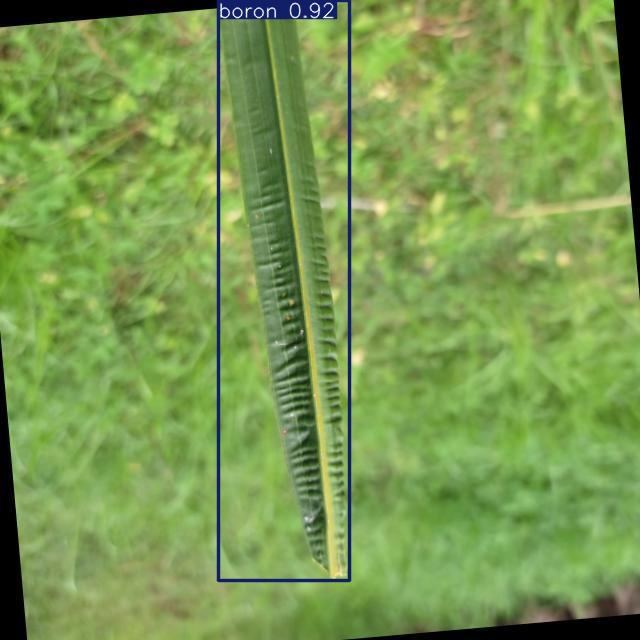nitrogen: (219, 0, 350, 580)
